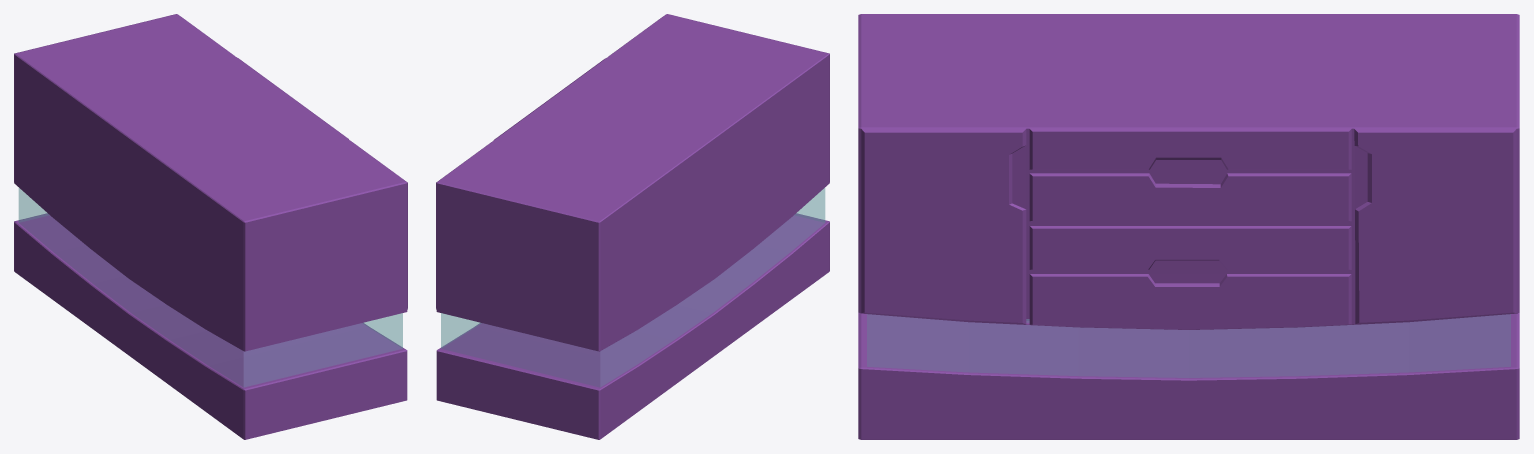
File: dresser_tier18.fbx
The picture shows the model from 3 angles, left to right: view 1: azimuth 30°, elevation 25°; view 2: azimuth 150°, elevation 25°; view 3: azimuth 270°, elevation 25°; orthographic projection. The views are drawn at different scales.
Parts seen in each view (by area): view 1: Cube.002, Cube.001, Cube.003; view 2: Cube.002, Cube.001, Cube.003; view 3: Cube.002, Cube.001, Cube.003.
Boxes of the visible parts, x1,y1,x2,y2 form: Cube.002: (14, 14, 407, 351); Cube.001: (14, 213, 407, 439); Cube.003: (18, 188, 402, 387); Cube.002: (436, 14, 829, 351); Cube.001: (436, 213, 829, 439); Cube.003: (441, 188, 825, 387); Cube.002: (858, 14, 1519, 329); Cube.001: (858, 312, 1519, 439); Cube.003: (867, 314, 1510, 377).
Bounding box in the file's own units: 89.88 × 113 × 217.
